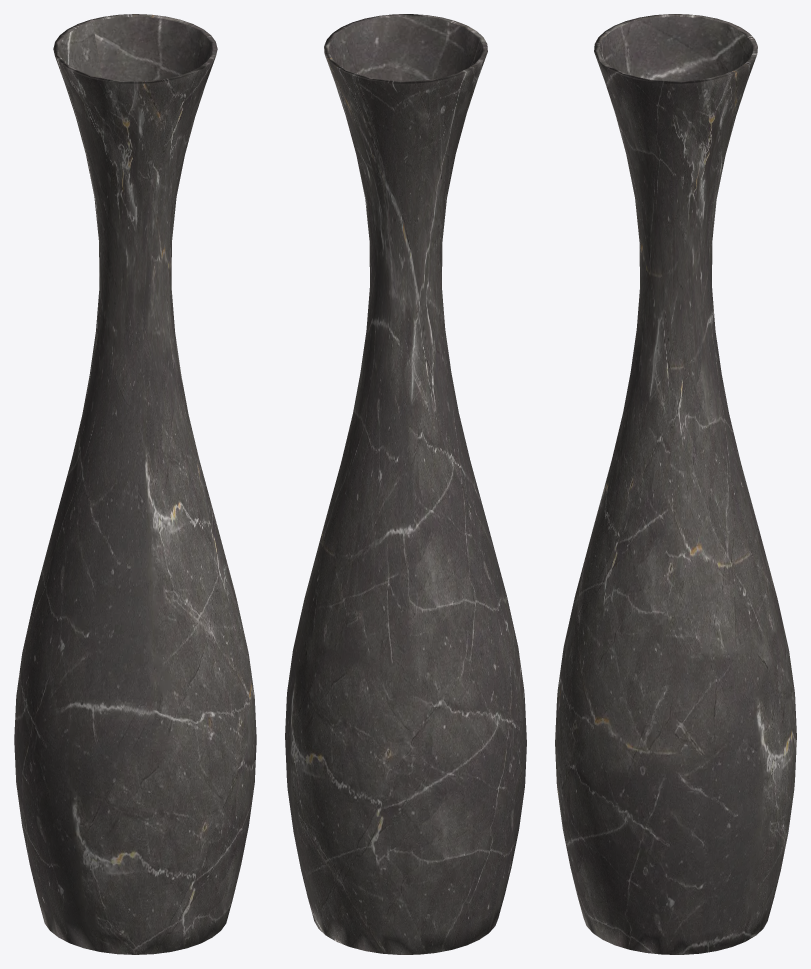
Rendered from vase.glb.
The picture shows the model from 3 angles, left to right: view 1: azimuth 30°, elevation 25°; view 2: azimuth 150°, elevation 25°; view 3: azimuth 270°, elevation 25°; orthographic projection.
Visible parts, largest first — view 1: SM_Vase_9; view 2: SM_Vase_9; view 3: SM_Vase_9.
Part boxes in pixels (x1,y1,x2,y2): SM_Vase_9: [14, 14, 256, 954]; SM_Vase_9: [285, 14, 526, 954]; SM_Vase_9: [555, 14, 796, 954].
Bounding box in the file's own units: 0.2196 × 0.8692 × 0.2196.
Materials: 1 (1 with a texture image).
